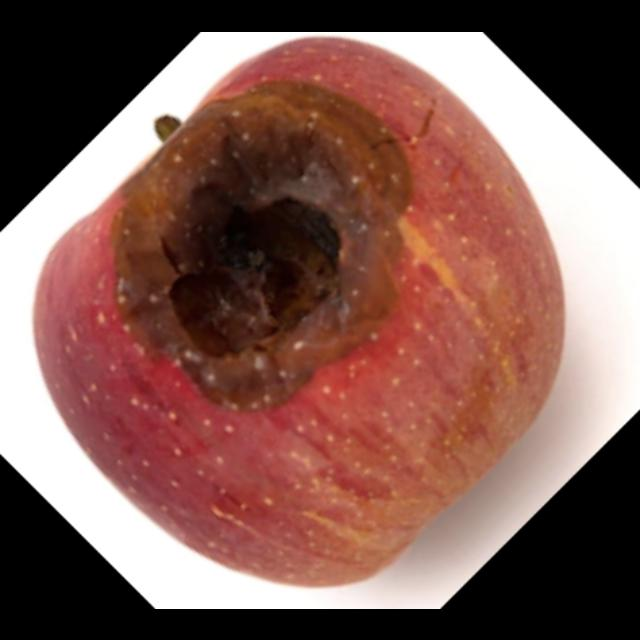Apel Tidak Segar: (28, 40, 566, 588)
